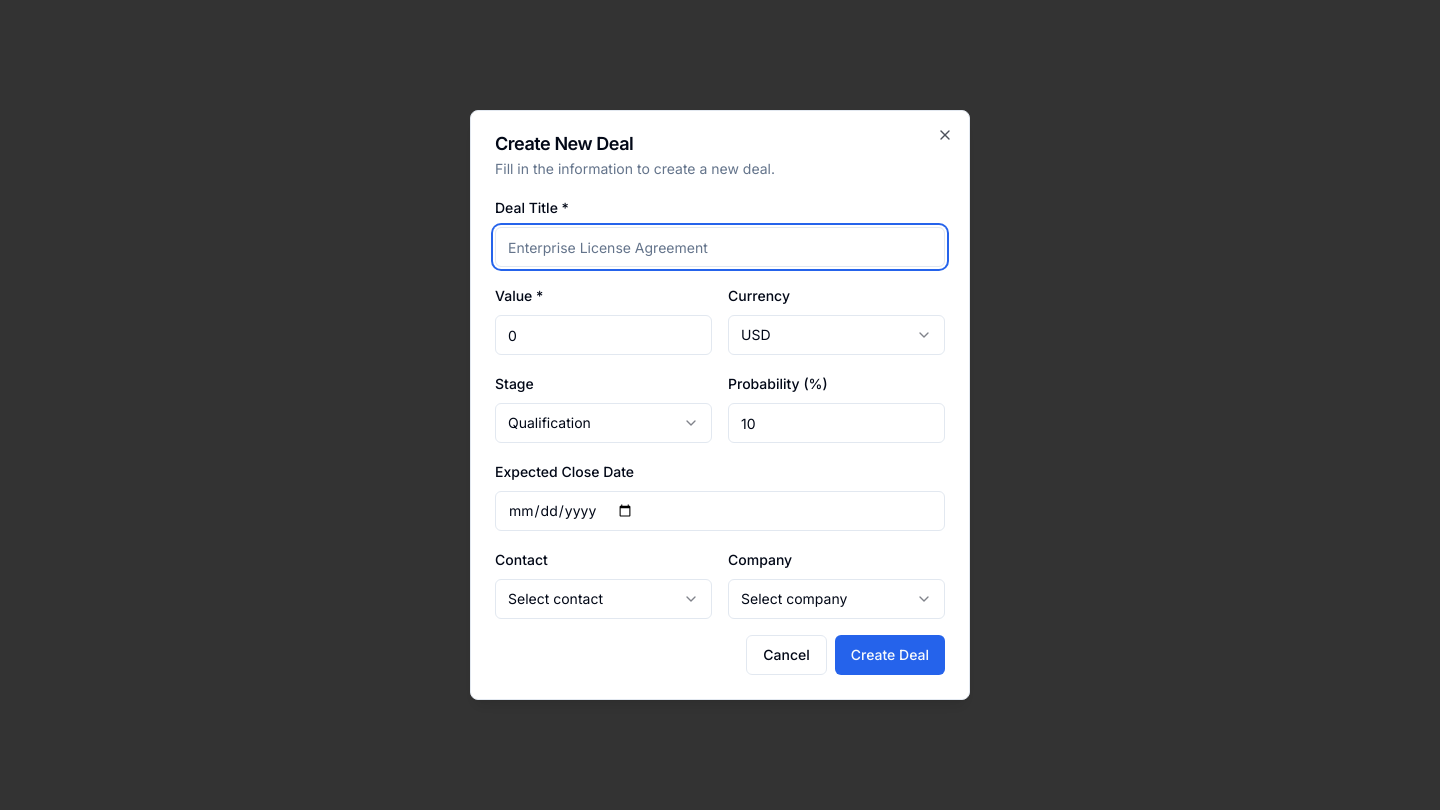
Test: DealForm › Form Validation › should show error for negative value
The width and height of the screenshot is (1440, 810).
Step 1. Type "Test Deal" into the field labelled "Deal Title *" → {"x": 720, "y": 247}, box top-left (495, 227), bottom-right (945, 267)
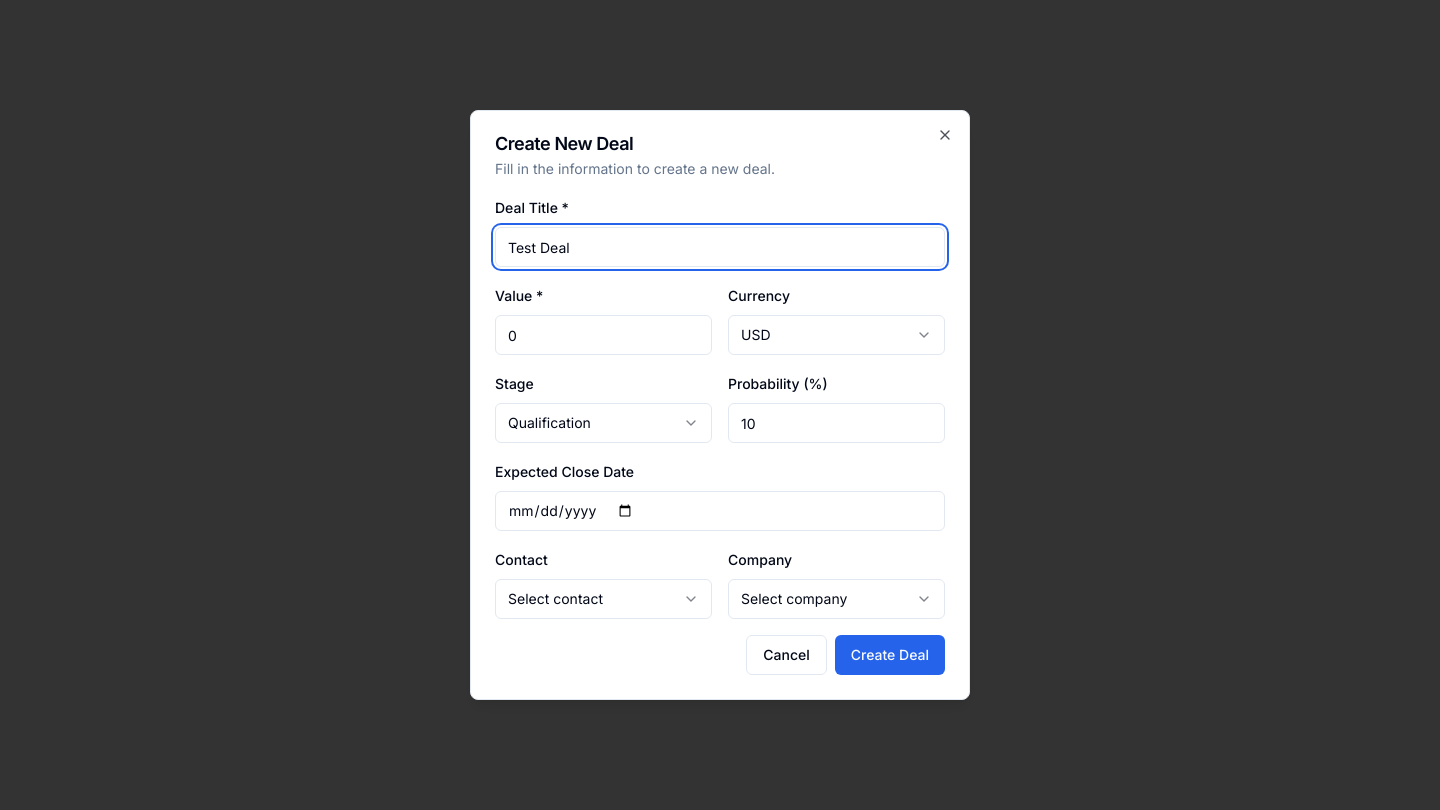
Step 2. Replace the text in the number field labelled "Value *" with "-1000" → {"x": 604, "y": 335}, box top-left (495, 315), bottom-right (712, 355)
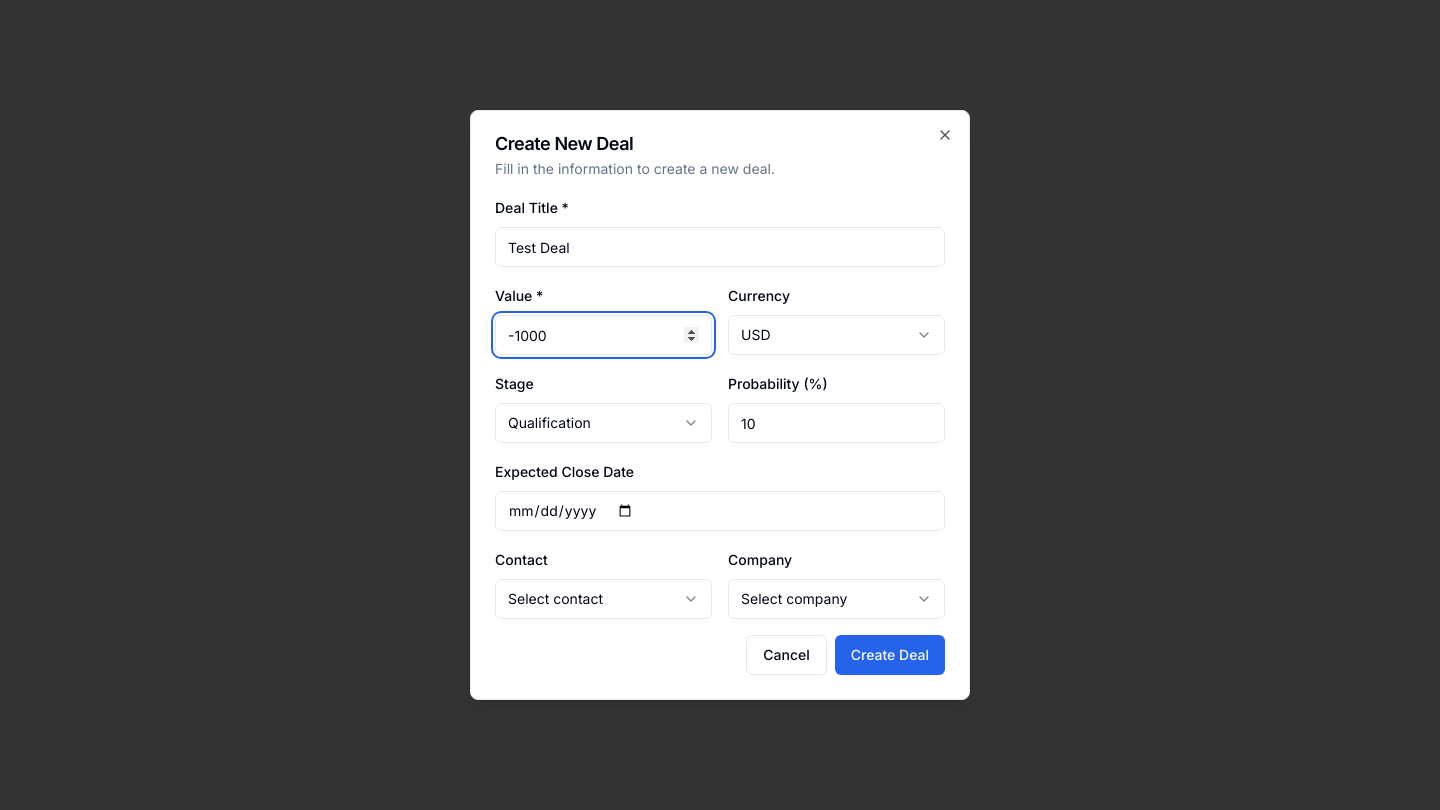
Step 3. Click the button "Create Deal" → {"x": 890, "y": 655}, box top-left (835, 635), bottom-right (945, 675)
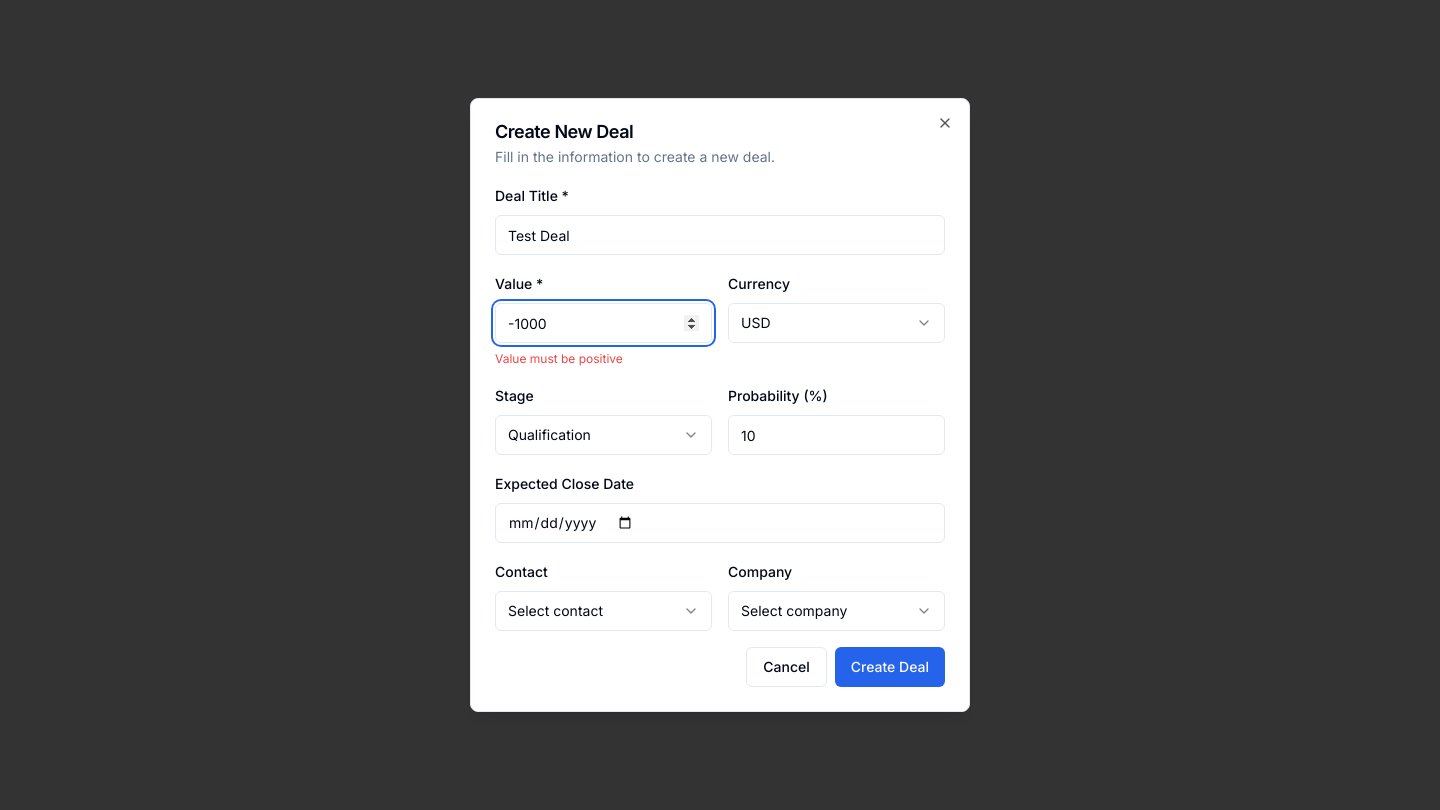
Result: the text "Value must be positive" is shown at top-left (495, 351), bottom-right (623, 366)
